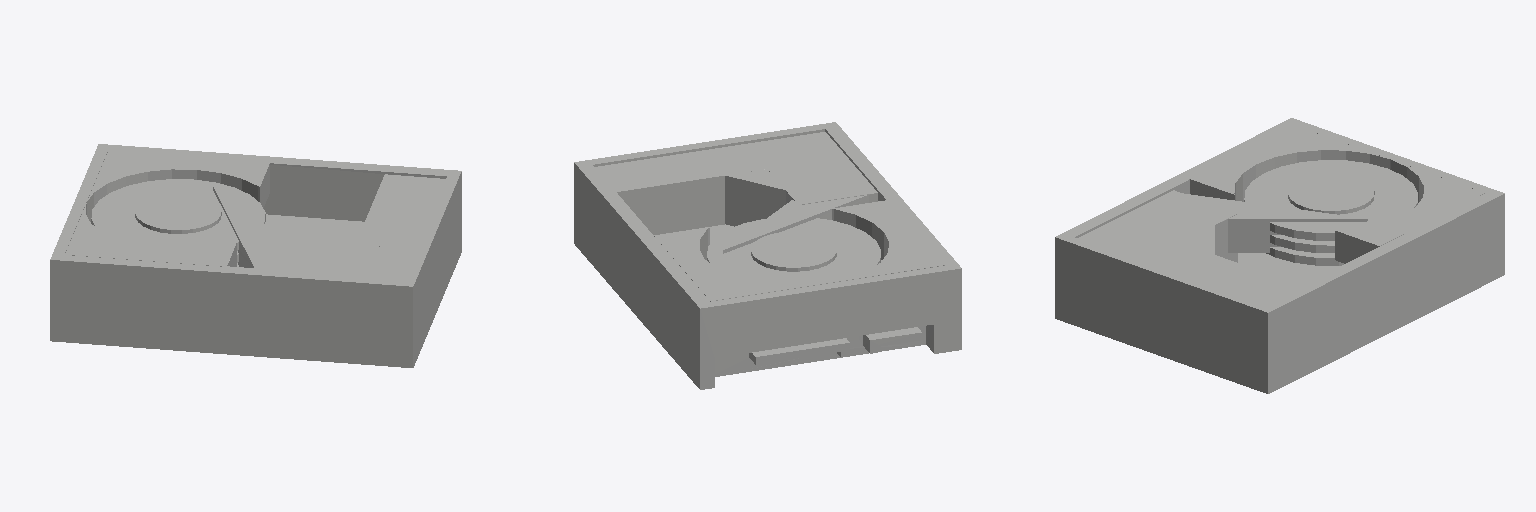
3 renders of one model, left to right at view 1: azimuth 30°, elevation 25°; view 2: azimuth 150°, elevation 25°; view 3: azimuth 270°, elevation 25°, orthographic.
Parts seen in each view (by area): view 1: HardDrive1; view 2: HardDrive1; view 3: HardDrive1.
Boxes of the visible parts, x1=… form: HardDrive1: x1=50, y1=144, x2=461, y2=367; HardDrive1: x1=574, y1=122, x2=961, y2=389; HardDrive1: x1=1055, y1=118, x2=1504, y2=393.
Bounding box in the file's own units: 2.67 × 0.5211 × 2.6.